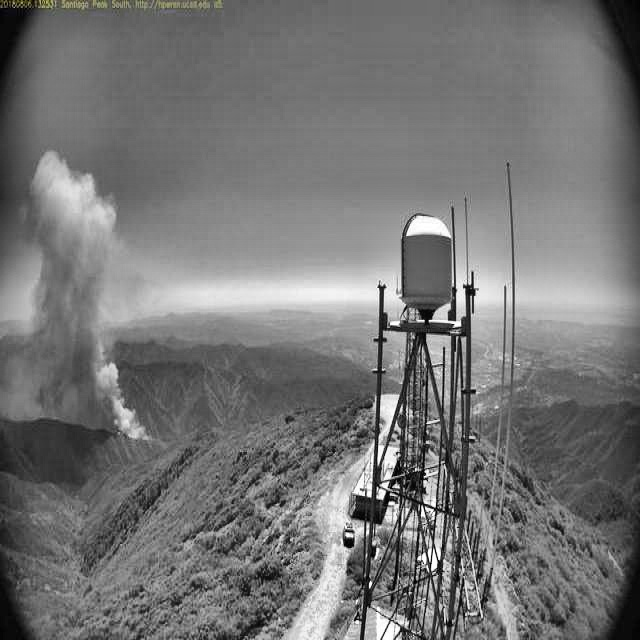smoke: (2, 151, 150, 444)
